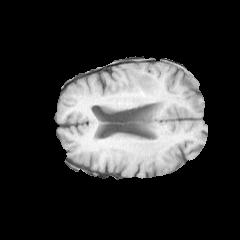glioma: (123, 63, 161, 105)
